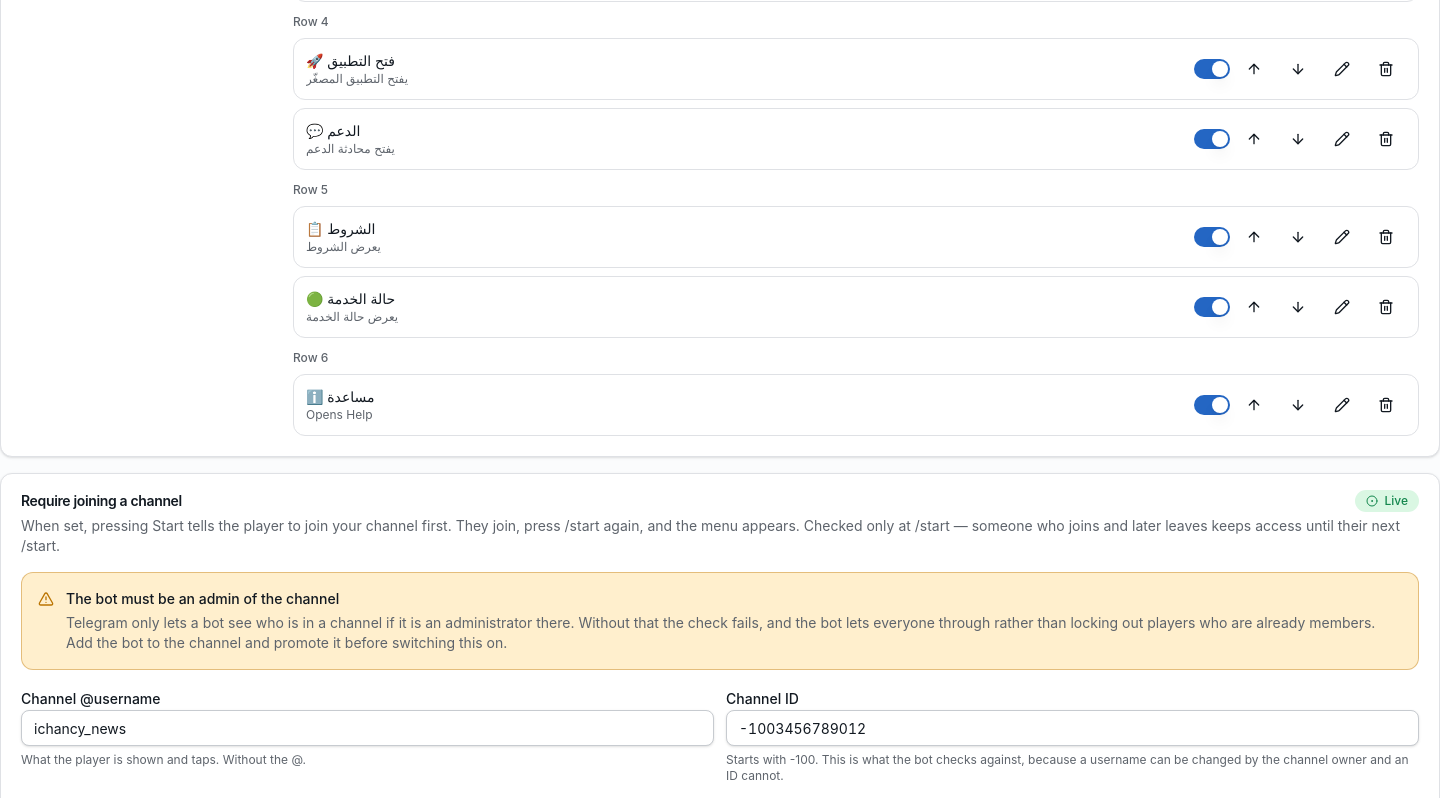
Scenario: the screens and their keyboards › deletes a screen once nothing opens it
The width and height of the screenshot is (1440, 798).
(page scrolled)
Click the button named "Delete ℹ️ مساعدة" at coordinates (1386, 405), box [1366,389,1406,421]
(page scrolled)
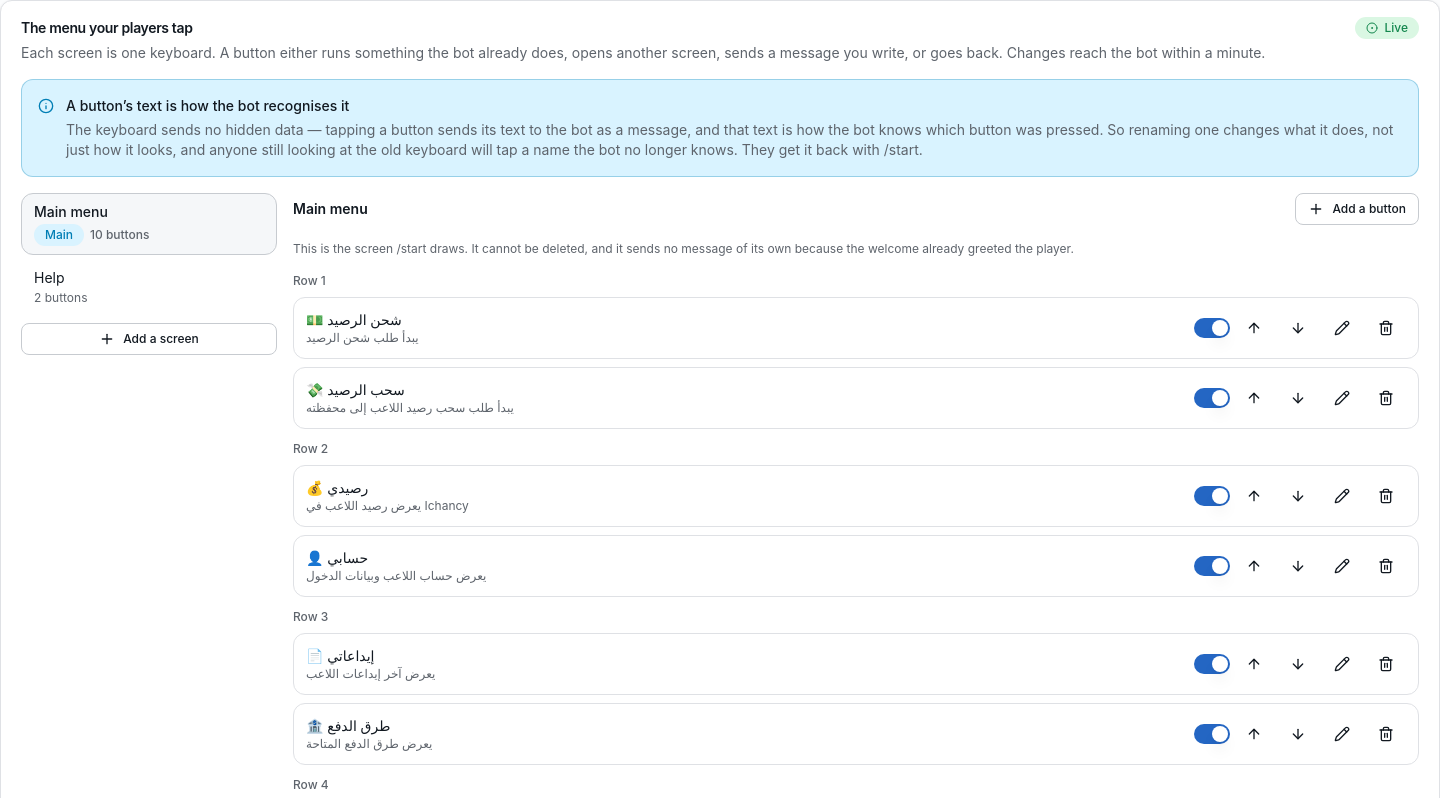
Result: the text "Opens Help" is gone
Click the button "Help 2 buttons" at coordinates (149, 287), box [21,259,277,315]
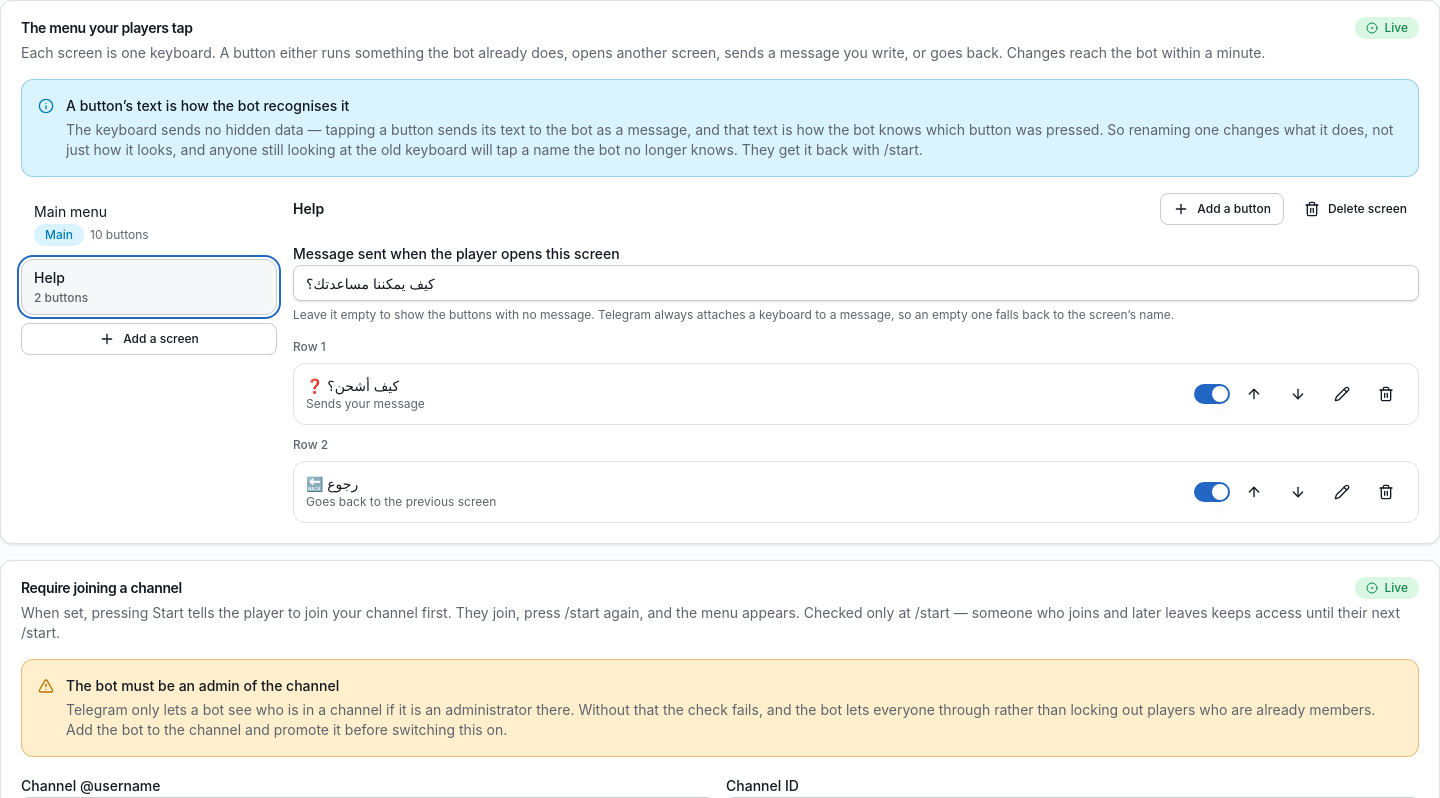
Click the button "Delete screen" at coordinates (1355, 209), box [1292,193,1419,225]
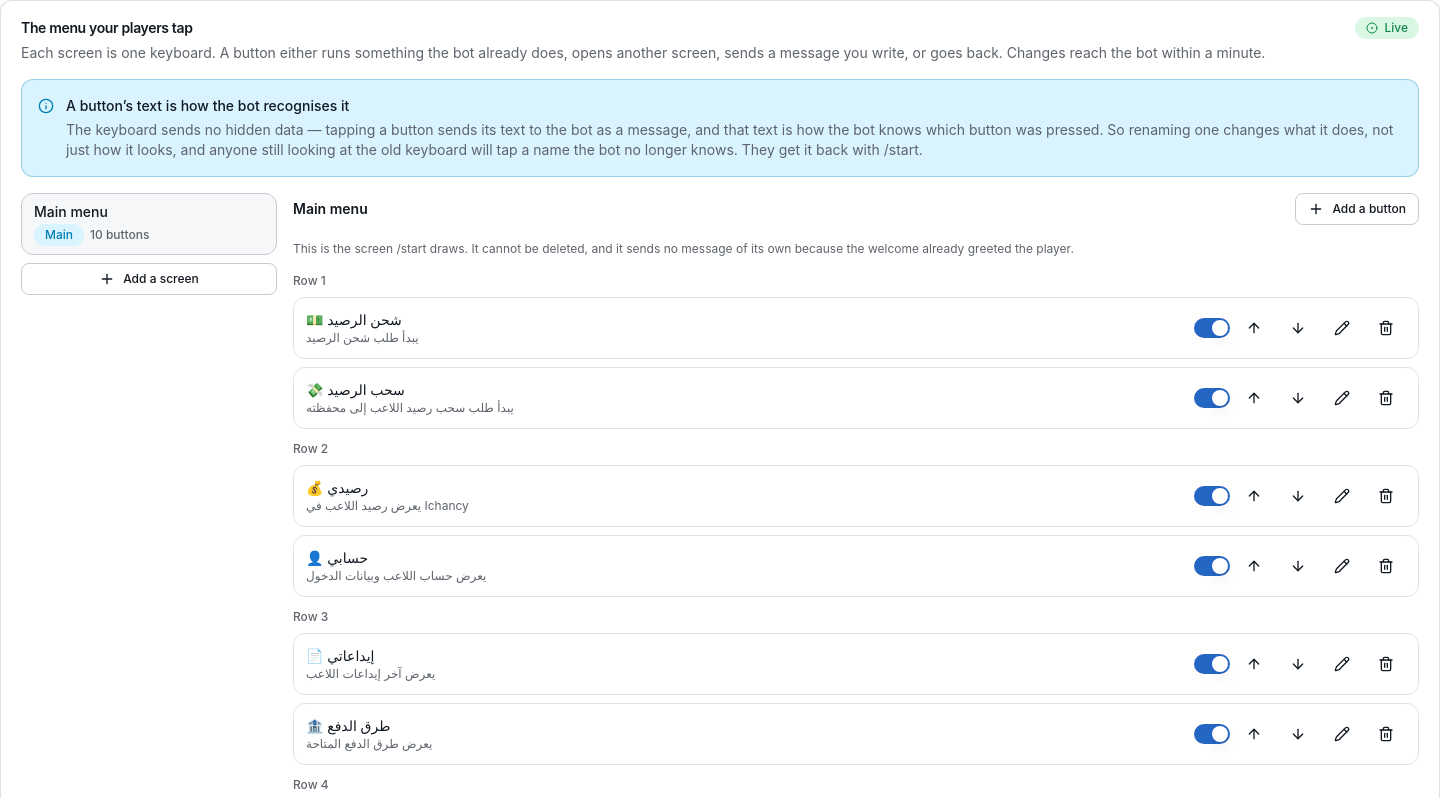
Result: the button "Help" is gone
